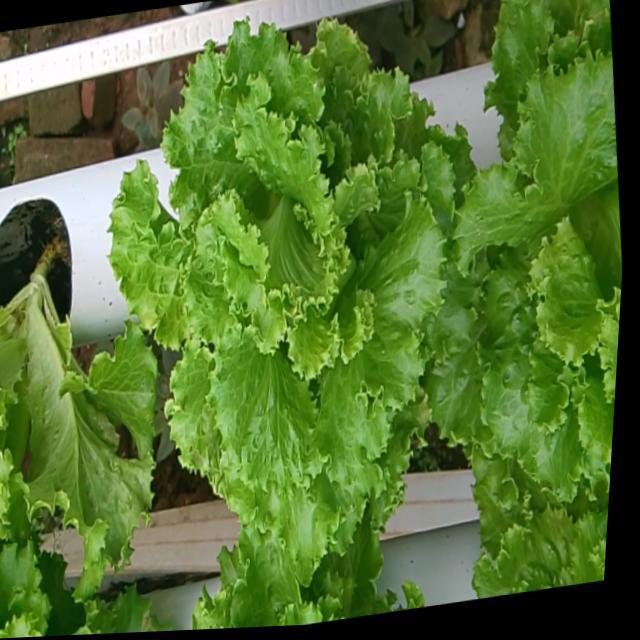Mature: (105, 4, 450, 550), (423, 27, 622, 490)
